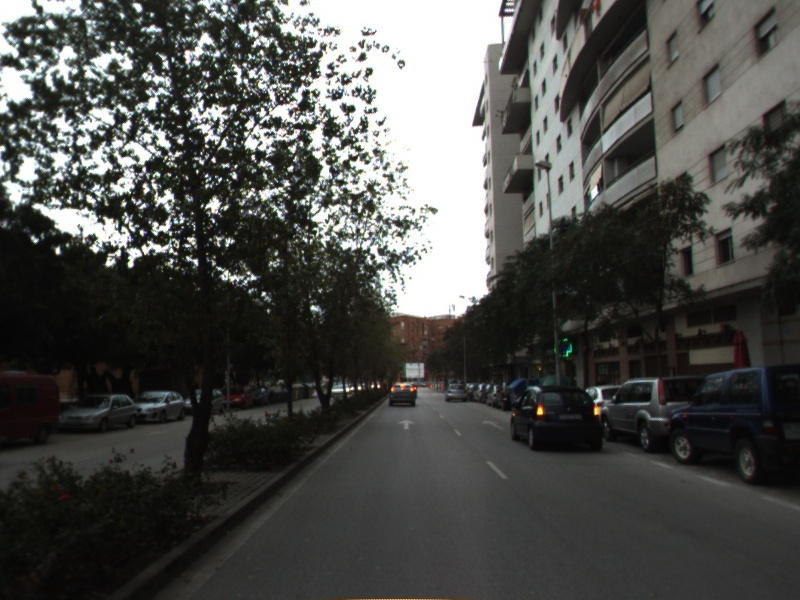STRAIGHT: (480, 418, 509, 432), (395, 418, 419, 432)
